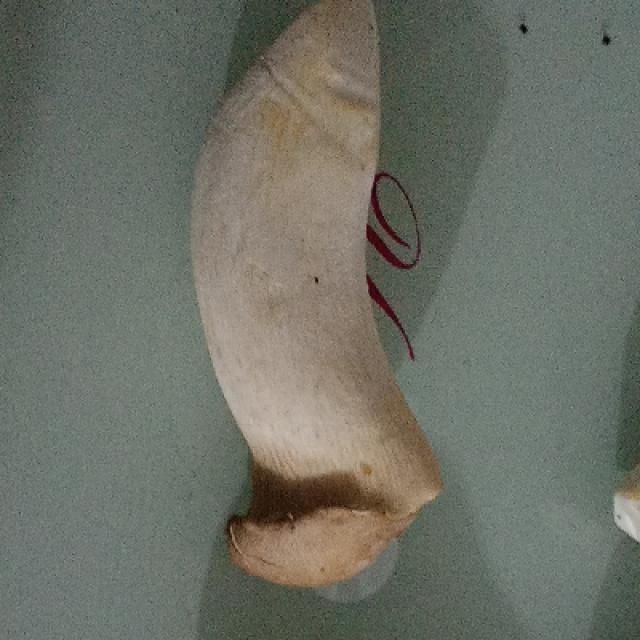Pleurotus eryngii: (188, 0, 447, 585)
